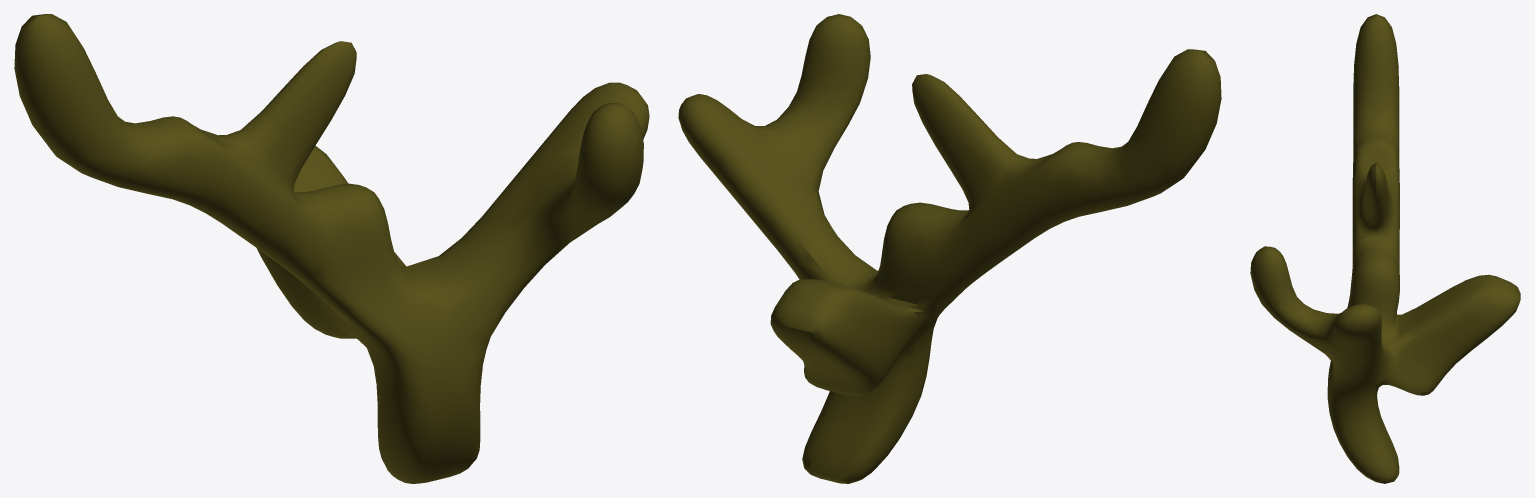
File: Dead Tree 5.fbx
The picture shows the model from 3 angles, left to right: view 1: azimuth 30°, elevation 25°; view 2: azimuth 150°, elevation 25°; view 3: azimuth 270°, elevation 25°; orthographic projection. The views are drawn at different scales.
Parts seen in each view (by area): view 1: Cube; view 2: Cube; view 3: Cube.
Boxes of the visible parts, x1,y1,x2,y2 form: Cube: [14, 14, 649, 483]; Cube: [678, 14, 1221, 483]; Cube: [1250, 14, 1520, 483].
Size of the model in its own units: 396 by 350 by 248.
